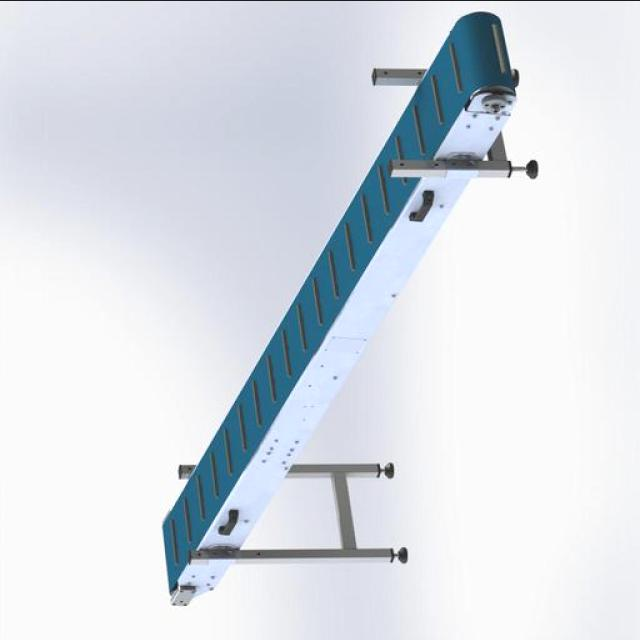conveyor: (161, 12, 517, 592)
